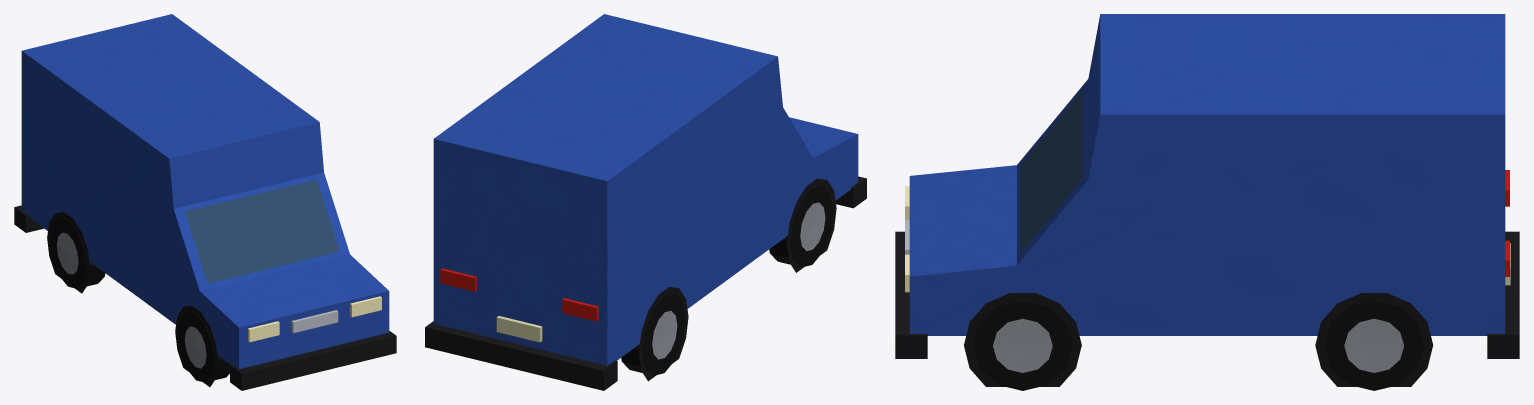
Rendered from van-blue.glb.
3 views of the same model, side by side, from view 1: azimuth 30°, elevation 25°; view 2: azimuth 150°, elevation 25°; view 3: azimuth 270°, elevation 25° (orthographic). The views are drawn at different scales.
Visible parts, largest first — view 1: van-blue, wheel_rr, wheel_fr; view 2: van-blue, wheel_fr, wheel_rr; view 3: van-blue, wheel_rl, wheel_fl.
Boxes of the visible parts, box(x1,y1,x2,y2) form: van-blue: box(14, 14, 396, 390); wheel_rr: box(49, 218, 105, 288); wheel_fr: box(178, 312, 230, 382); van-blue: box(425, 14, 866, 390); wheel_fr: box(769, 185, 833, 267); wheel_rr: box(621, 294, 685, 375); van-blue: box(895, 14, 1519, 386); wheel_rl: box(1324, 300, 1424, 390); wheel_fl: box(973, 300, 1072, 390).
Bounding box in the file's own units: 2.06 × 2.55 × 5.24.
1 material, 1 textured.
